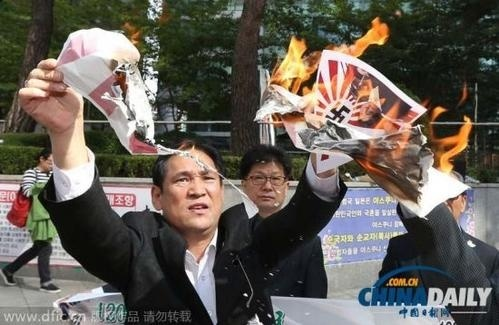fire: (269, 16, 391, 120), (418, 93, 474, 205), (363, 85, 402, 165)
